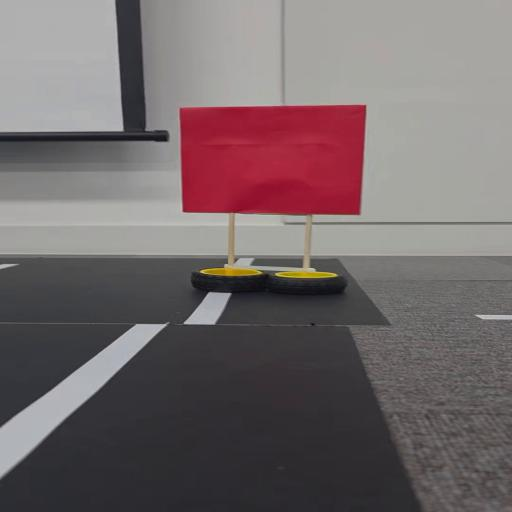Sign_A: (171, 98, 386, 303)
